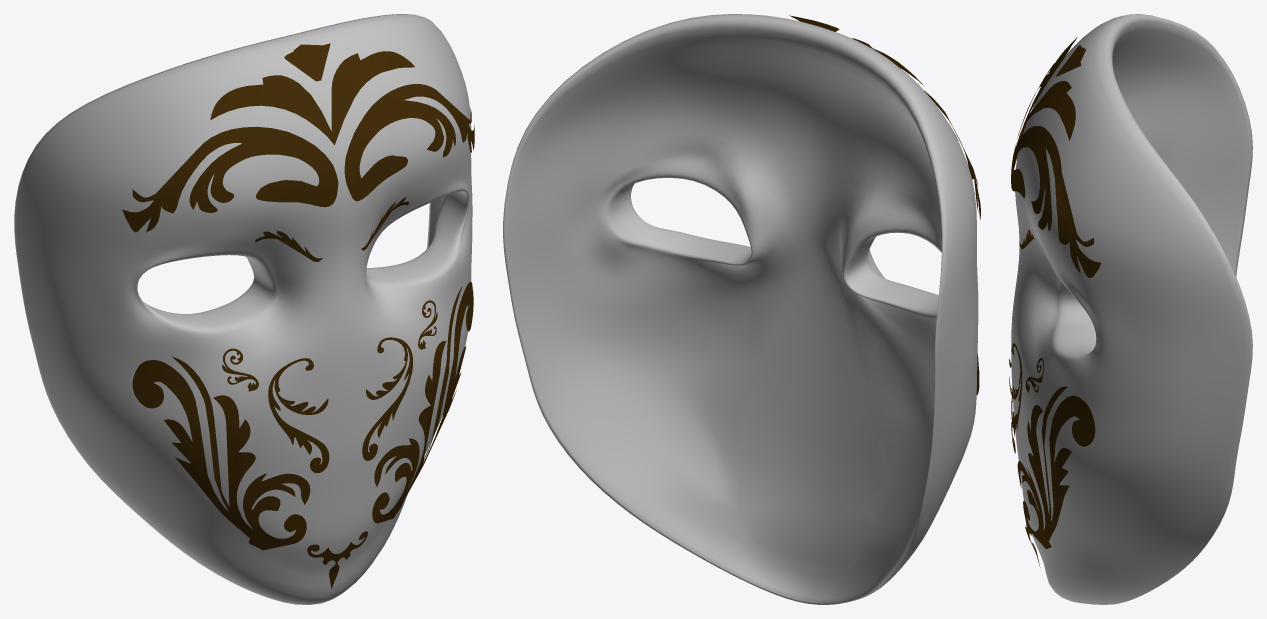
Rendered from mask-3.fbx.
3 renders of one model, left to right at view 1: azimuth 30°, elevation 25°; view 2: azimuth 150°, elevation 25°; view 3: azimuth 270°, elevation 25°, orthographic. The views are drawn at different scales.
Parts seen in each view (by area): view 1: mask-3; view 2: mask-3; view 3: mask-3.
Boxes of the visible parts, bbox=[...] form: mask-3: bbox=[14, 14, 474, 604]; mask-3: bbox=[503, 14, 980, 604]; mask-3: bbox=[1009, 14, 1252, 604].
Size of the model in its own units: 15.1 by 19.18 by 7.78.
